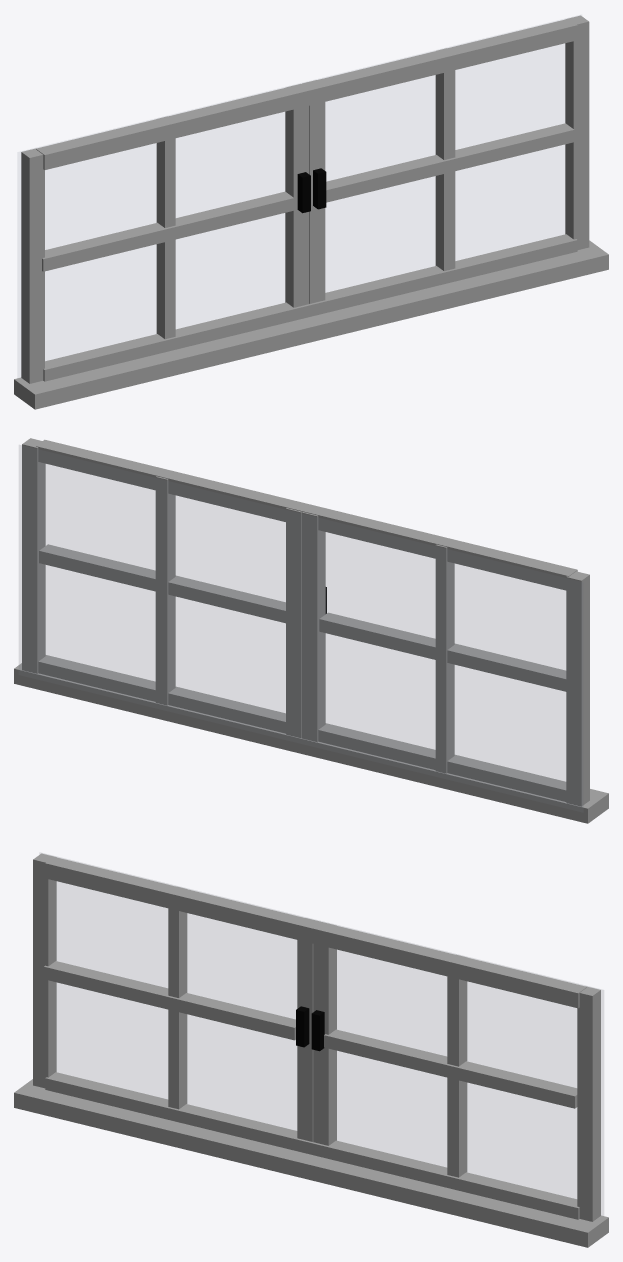
The model's file is ventana1.fbx.
3 views of the same model, one above another, from view 1: azimuth 30°, elevation 25°; view 2: azimuth 150°, elevation 25°; view 3: azimuth 330°, elevation 25° (orthographic).
Visible parts, largest first — view 1: pPlane1, pCube14, pCube3, pCube4, pCube1, pCube12, pCube2, pCube13, pCube5, pCube10, pCube9, pCube6 (+2 smaller); view 2: pPlane1, pCube3, pCube14, pCube4, pCube1, pCube2, pCube5, pCube12, pCube13, pCube10, pCube9, pCube6; view 3: pPlane1, pCube14, pCube3, pCube4, pCube2, pCube12, pCube13, pCube1, pCube6, pCube10, pCube9, pCube5 (+2 smaller).
Part boxes in pixels (x1=…): pPlane1: x1=18, y1=15, x2=581, y2=377; pCube14: x1=14, y1=240, x2=608, y2=409; pCube3: x1=36, y1=18, x2=577, y2=169; pCube4: x1=43, y1=234, x2=577, y2=381; pCube1: x1=21, y1=148, x2=44, y2=383; pCube12: x1=42, y1=191, x2=294, y2=271; pCube2: x1=565, y1=15, x2=589, y2=249; pCube13: x1=326, y1=123, x2=574, y2=202; pCube5: x1=285, y1=84, x2=309, y2=307; pCube10: x1=435, y1=48, x2=455, y2=270; pCube9: x1=156, y1=116, x2=175, y2=339; pCube6: x1=302, y1=80, x2=325, y2=303; pPlane1: x1=19, y1=445, x2=582, y2=811; pCube3: x1=36, y1=439, x2=577, y2=590; pCube14: x1=14, y1=663, x2=608, y2=823; pCube4: x1=38, y1=655, x2=566, y2=801; pCube1: x1=566, y1=571, x2=589, y2=806; pCube2: x1=22, y1=438, x2=45, y2=673; pCube5: x1=302, y1=512, x2=325, y2=742; pCube12: x1=319, y1=612, x2=566, y2=691; pCube13: x1=39, y1=544, x2=285, y2=623; pCube10: x1=155, y1=476, x2=175, y2=705; pCube9: x1=435, y1=544, x2=454, y2=773; pCube6: x1=286, y1=508, x2=302, y2=738; pPlane1: x1=40, y1=853, x2=603, y2=1215; pCube14: x1=14, y1=1079, x2=608, y2=1247; pCube3: x1=45, y1=857, x2=586, y2=1008; pCube4: x1=45, y1=1072, x2=579, y2=1219; pCube2: x1=577, y1=986, x2=600, y2=1221; pCube12: x1=44, y1=961, x2=295, y2=1040; pCube13: x1=324, y1=1029, x2=577, y2=1108; pCube1: x1=33, y1=853, x2=56, y2=1088; pCube6: x1=313, y1=922, x2=336, y2=1145; pCube10: x1=447, y1=954, x2=467, y2=1177; pCube9: x1=168, y1=886, x2=187, y2=1109; pCube5: x1=297, y1=918, x2=320, y2=1141.
Size of the model in its own units: 3.18 by 1.28 by 0.2067.
